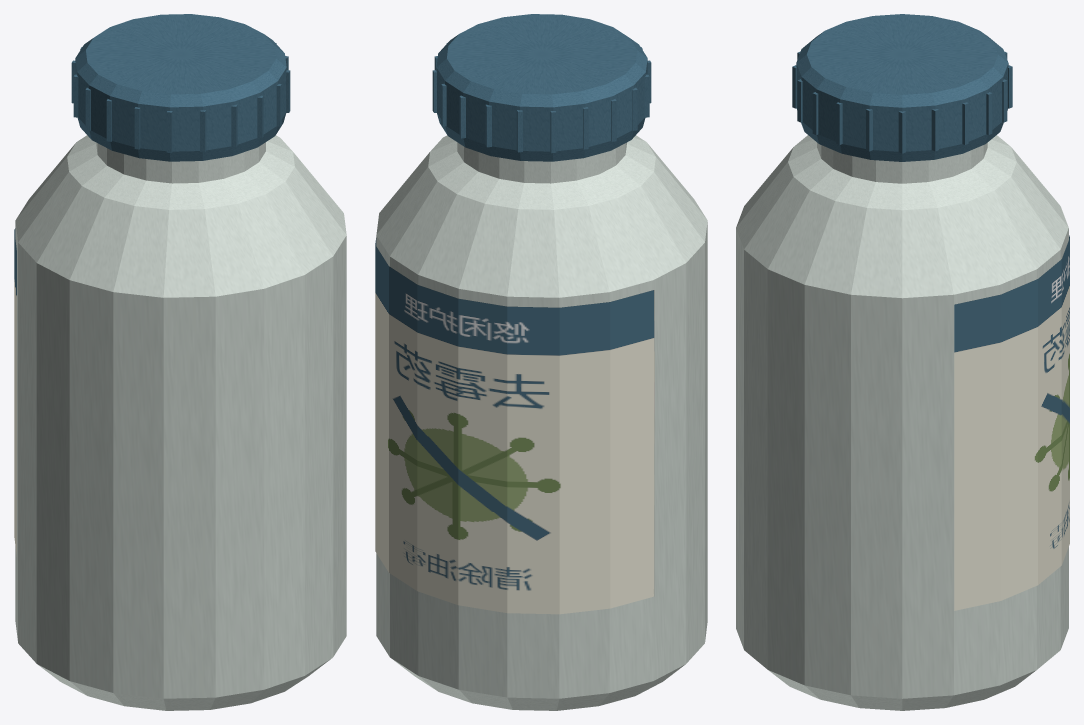
The model's file is mold_remover.obj.
The picture shows the model from 3 angles, left to right: view 1: azimuth 30°, elevation 25°; view 2: azimuth 150°, elevation 25°; view 3: azimuth 270°, elevation 25°; orthographic projection.
Parts seen in each view (by area): view 1: mold_remover; view 2: mold_remover; view 3: mold_remover.
Part boxes in pixels (x1,y1,x2,y2): mold_remover: (14,14,346,710); mold_remover: (375,14,707,710); mold_remover: (736,14,1069,710).
Bounding box in the file's own units: 3.2 × 6.34 × 3.21.
1 material, 1 textured.
